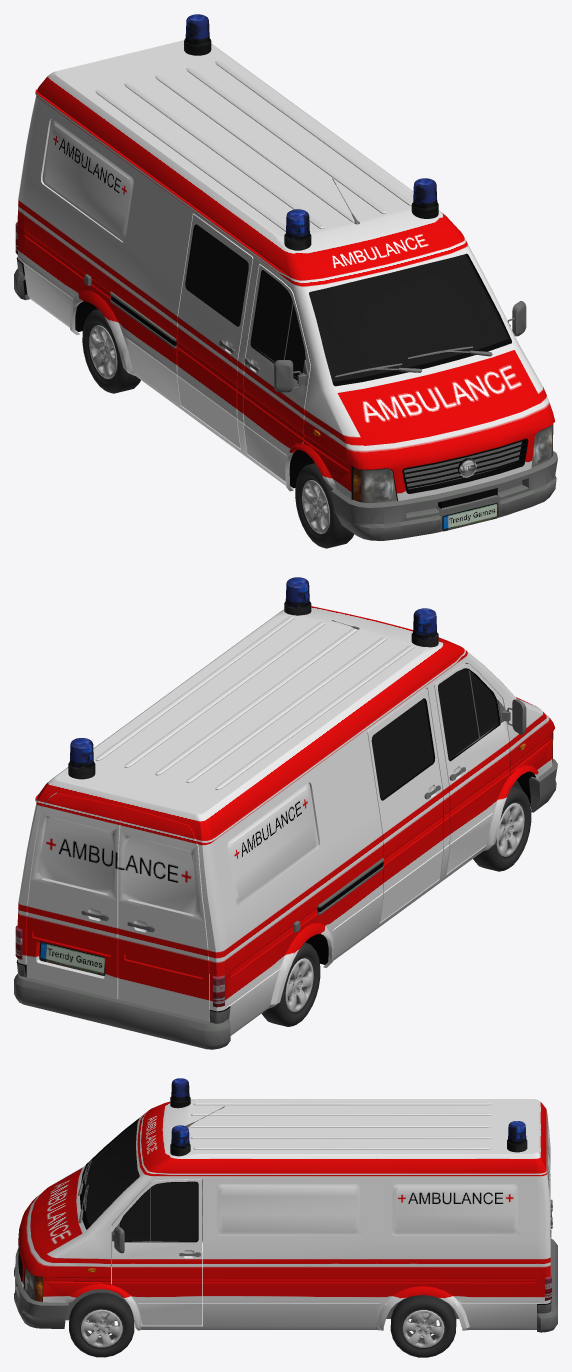
The model's file is ambulance.glb.
The picture shows the model from 3 angles, top to bottom: view 1: azimuth 30°, elevation 25°; view 2: azimuth 150°, elevation 25°; view 3: azimuth 270°, elevation 25°; orthographic projection. The views are drawn at different scales.
Visible parts, largest first — view 1: rescue_van, Right_Front, Right_Rear; view 2: rescue_van, Right_Rear, Right_Front; view 3: rescue_van, Left_Front, Left_Rear.
Boxes of the visible parts, x1,y1,x2,y2 form: rescue_van: (14, 14, 557, 540); Right_Front: (295, 463, 354, 548); Right_Rear: (82, 309, 140, 393); rescue_van: (14, 577, 557, 1049); Right_Rear: (261, 942, 320, 1026); Right_Front: (473, 786, 531, 871); rescue_van: (14, 1078, 557, 1332); Left_Front: (69, 1292, 134, 1357); Left_Rear: (390, 1295, 456, 1357).
Bounding box in the file's own units: 2.16 × 2.38 × 5.33.
12 materials, 11 textured.
